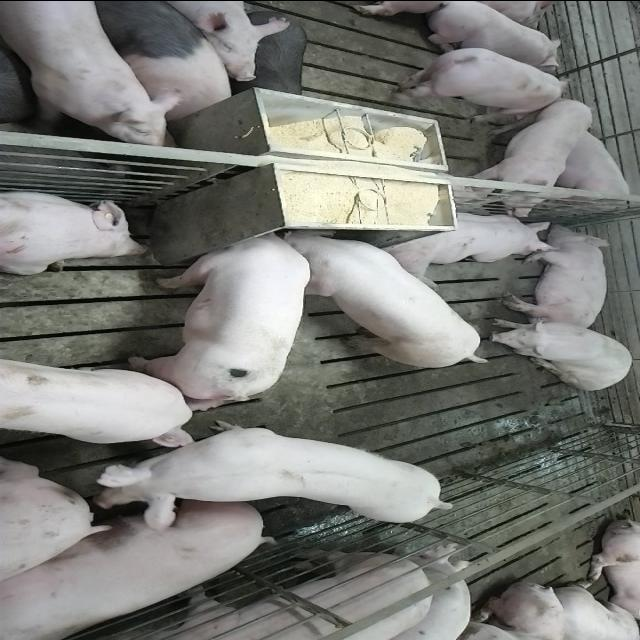Feeding: (128, 220, 312, 400), (282, 230, 498, 372)
Lateral_lying: (501, 222, 615, 332)
Sitting: (484, 316, 636, 390)
Standing: (0, 547, 440, 640), (84, 420, 450, 528), (2, 2, 184, 148), (71, 1, 242, 119), (0, 351, 194, 444), (463, 97, 593, 218), (391, 44, 578, 114)
Sternal_lying: (0, 186, 150, 274), (376, 208, 558, 280), (546, 126, 636, 212)
